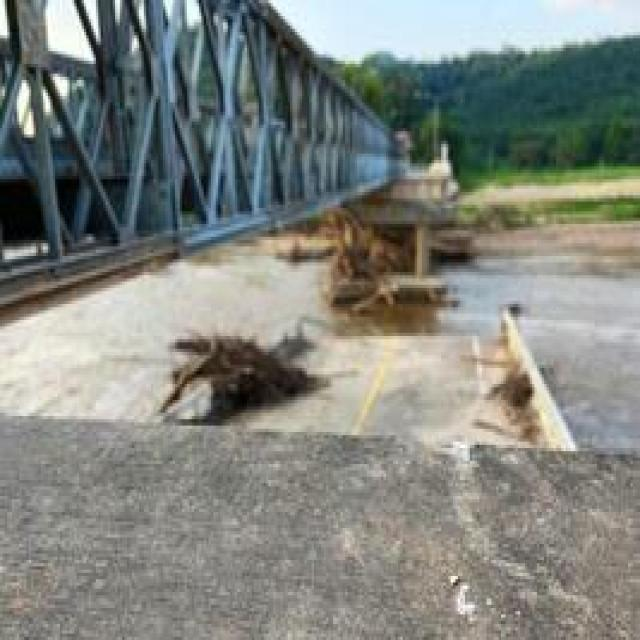road collapse: (211, 94, 640, 591)
